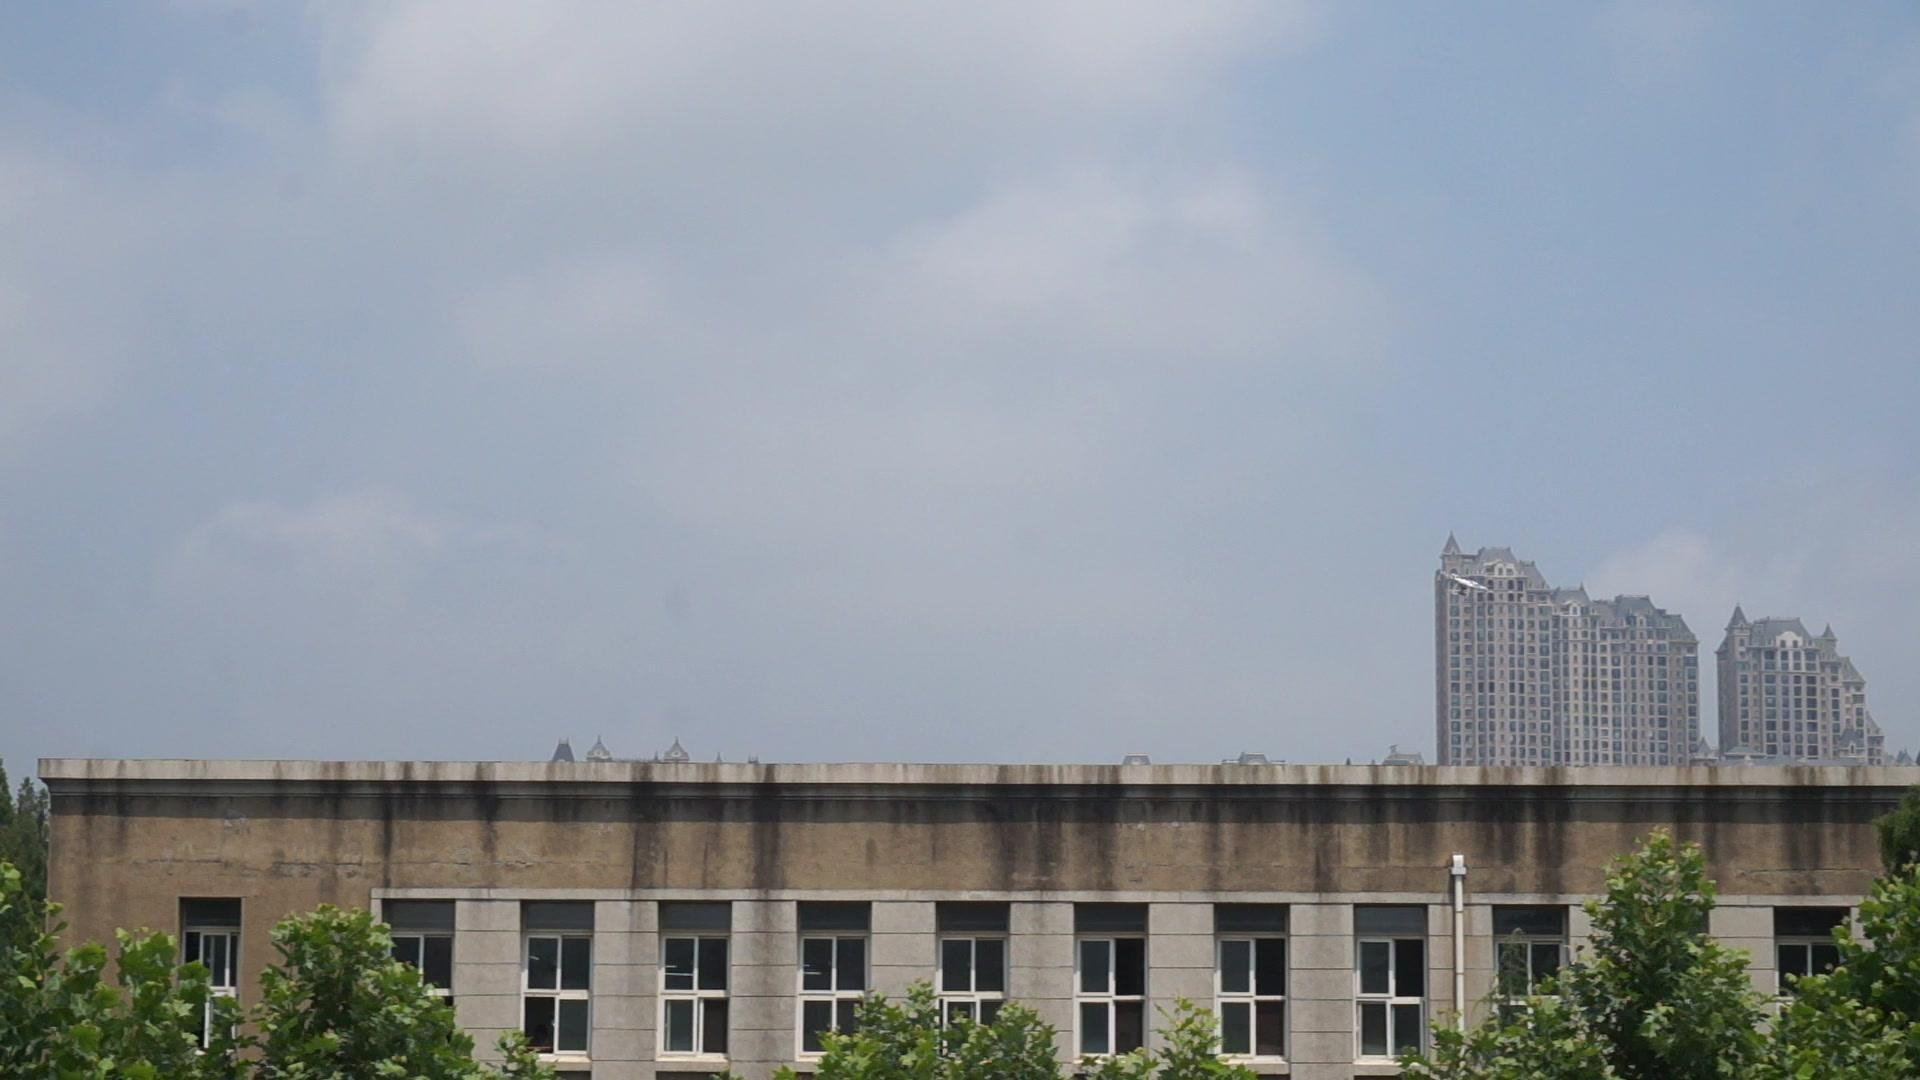UAV: (1440, 571, 1489, 597)
